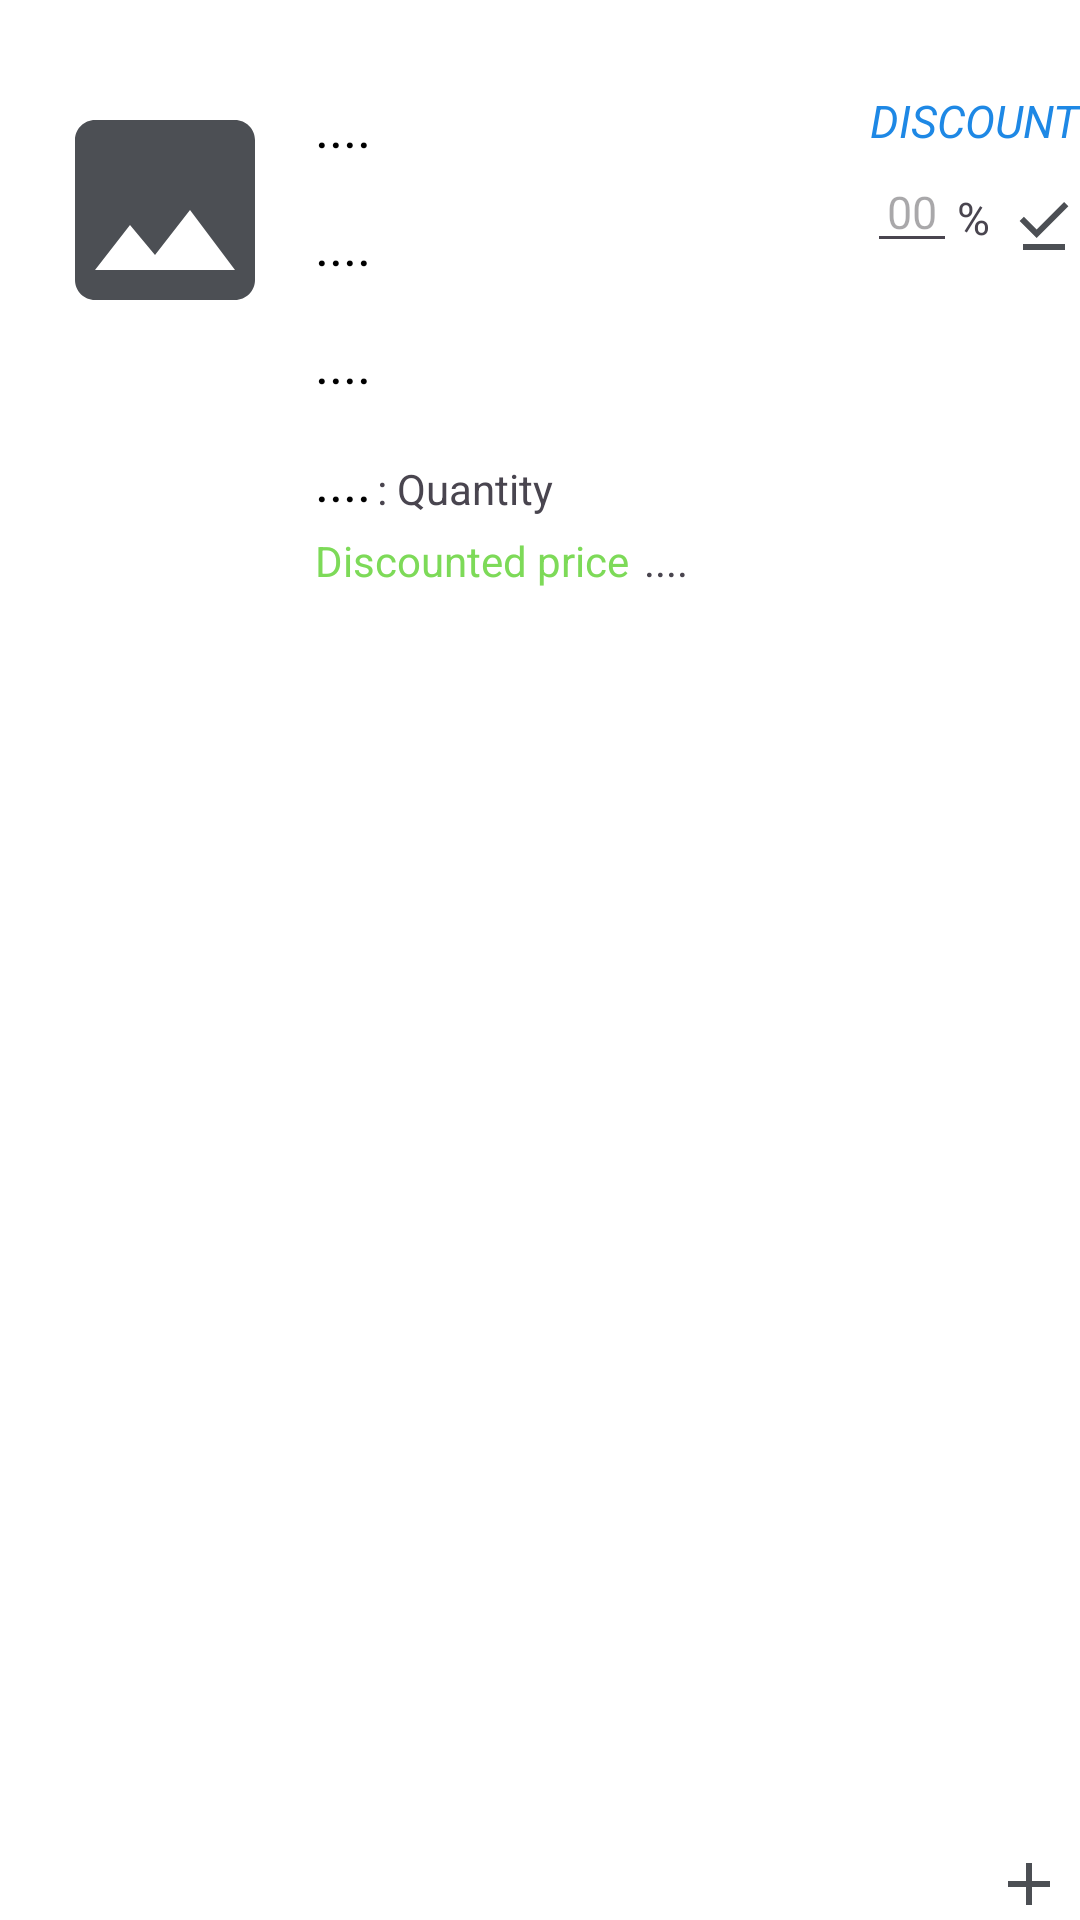

Icon click points for this 1080 × 1920 phone screenshot, format [x,y]:
tick: [1044,226]
